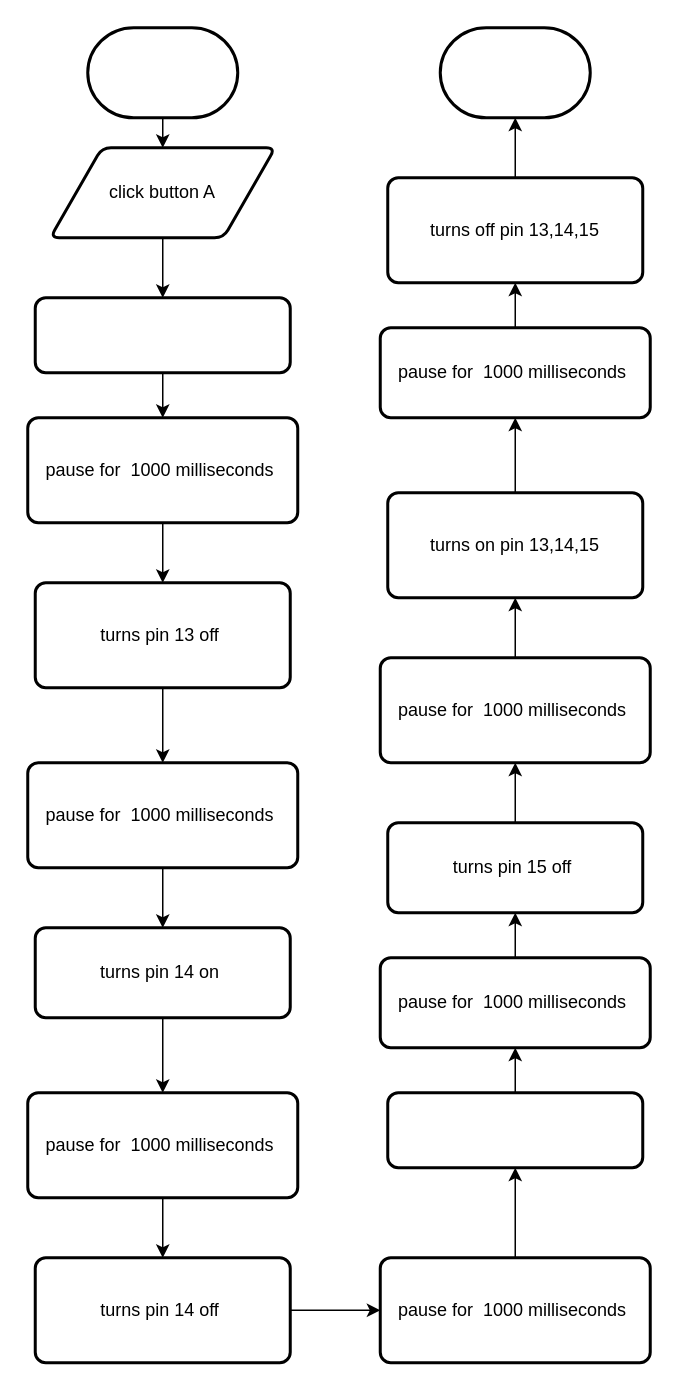
Some shapes in this 677 by 1389 pixel diagram are drawn without their labels. Here are the shapes that lost their labels. From the top down, the centre of each, then its label:
[162,72]: Start
[514,72]: Stop
[162,335]: turns pin 13 on
[515,1129]: turns pin 15 on
